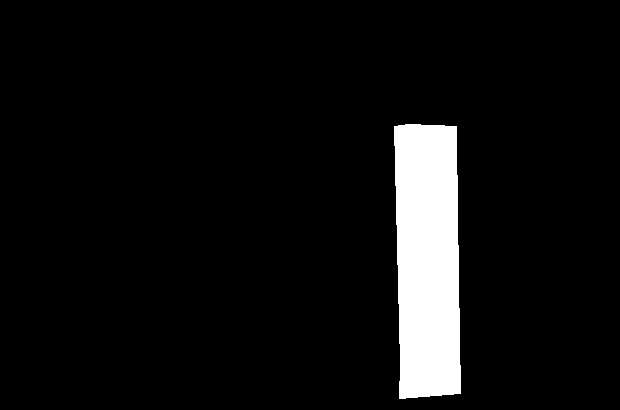type3s: (387, 121, 467, 399)
